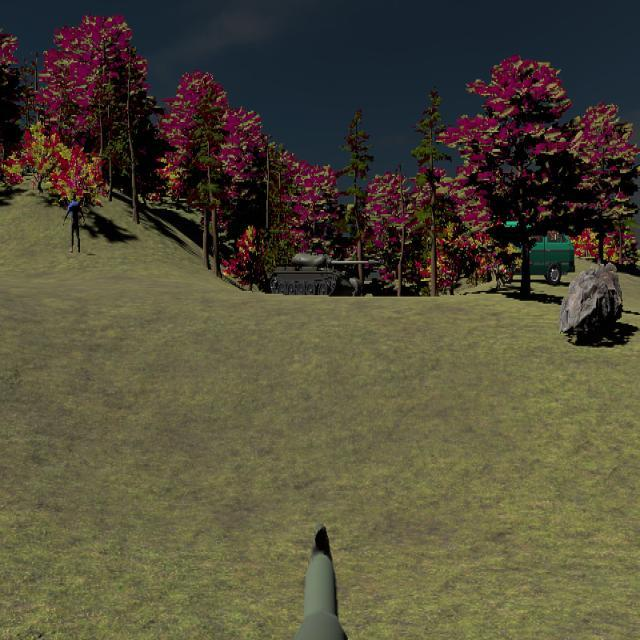Tank: (260, 251, 382, 298)
